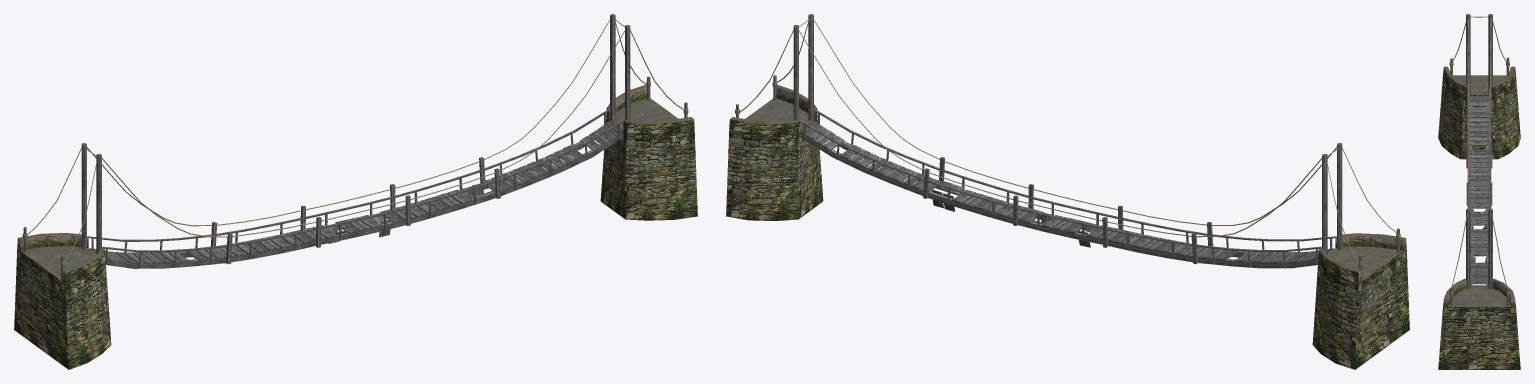
File: svwoodbridge1.dae
3 views of the same model, side by side, from view 1: azimuth 30°, elevation 25°; view 2: azimuth 150°, elevation 25°; view 3: azimuth 270°, elevation 25° (orthographic). The views are drawn at different scales.
Parts seen in each view (by area): view 1: cube103_copy74-0; view 2: cube103_copy74-0; view 3: cube103_copy74-0.
Part boxes in pixels (x1,y1,x2,y2): cube103_copy74-0: (14,14,697,369); cube103_copy74-0: (726,14,1409,369); cube103_copy74-0: (1438,14,1520,369).
Size of the model in its own units: 7875 by 2250 by 1186.
